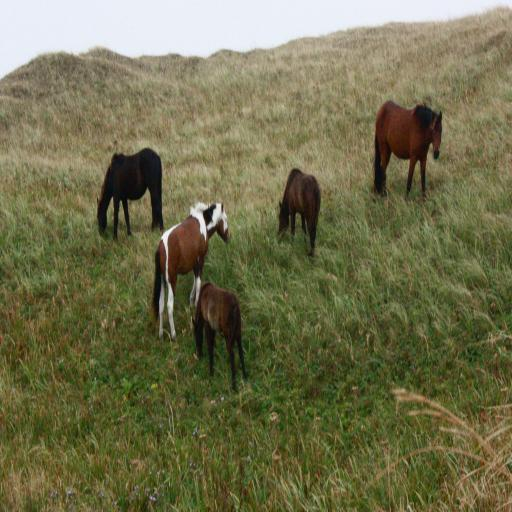horse: (151, 204, 231, 344), (376, 101, 444, 196), (96, 148, 164, 242), (192, 284, 248, 394), (277, 166, 322, 256)
